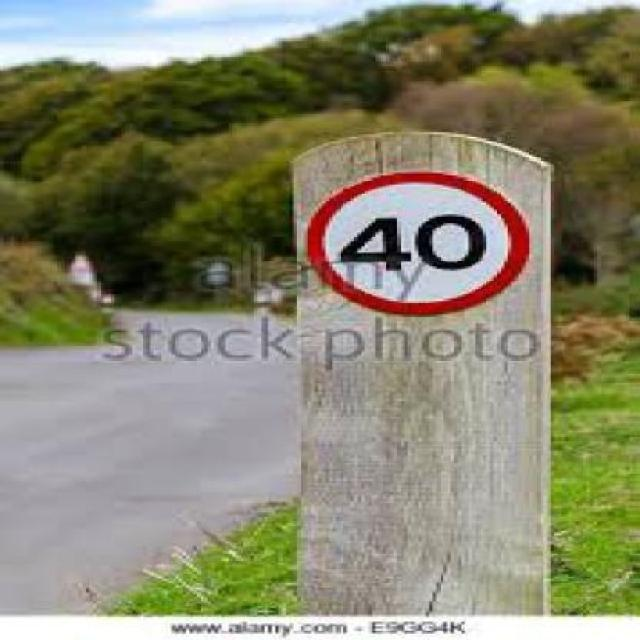forb_speed_over_40: (313, 172, 525, 314)
